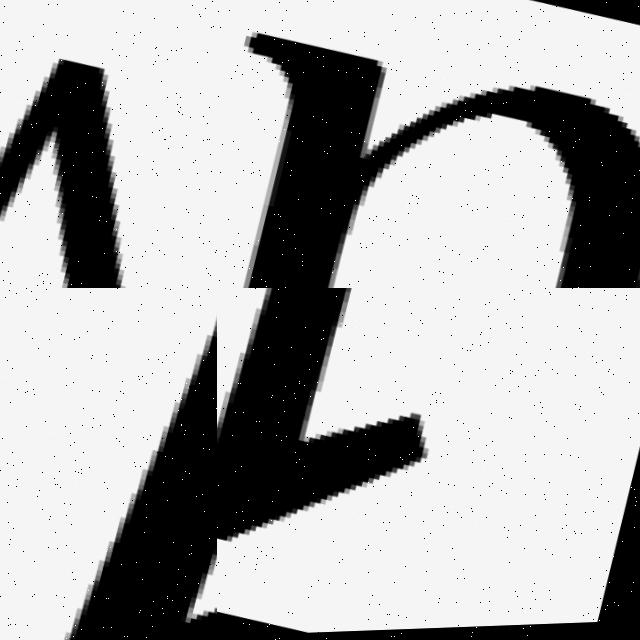1: (217, 288, 526, 598), (0, 288, 217, 640)
U: (217, 6, 640, 288)
W: (0, 0, 217, 288)
